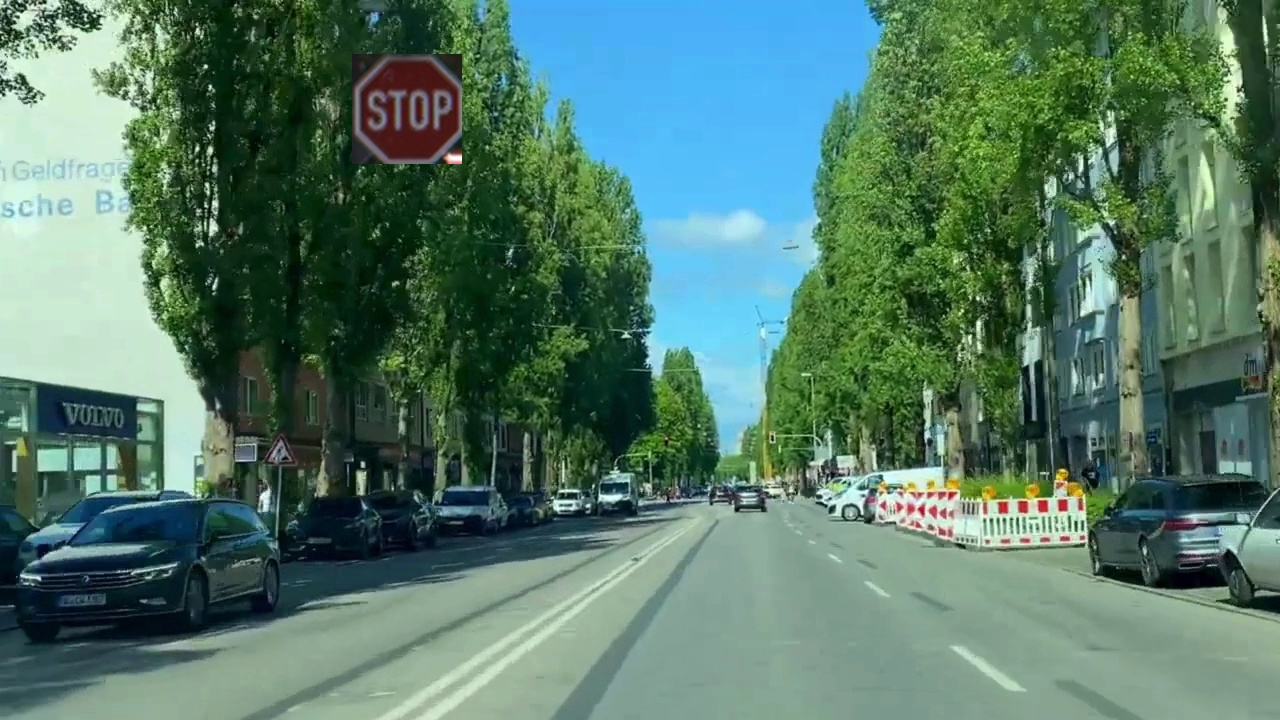Stop: (352, 54, 462, 164)
